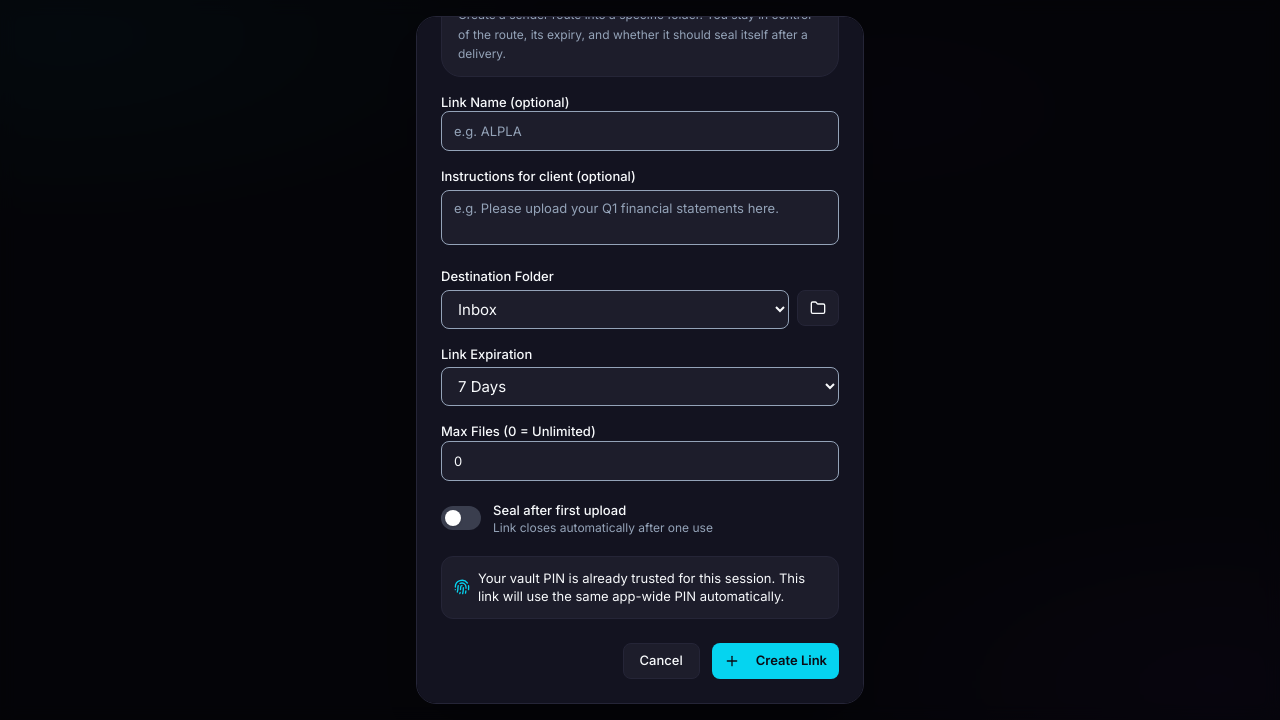
Test: CreateUploadLinkModal › uses the cached pin for secure drop creation without asking again
The image size is (1280, 720).
(page scrolled)
Expected: the field labelled "your 4-digit pin" is not shown
Click the button "Create Link". click: (775, 661)
box: x1=712 y1=643 x2=839 y2=679
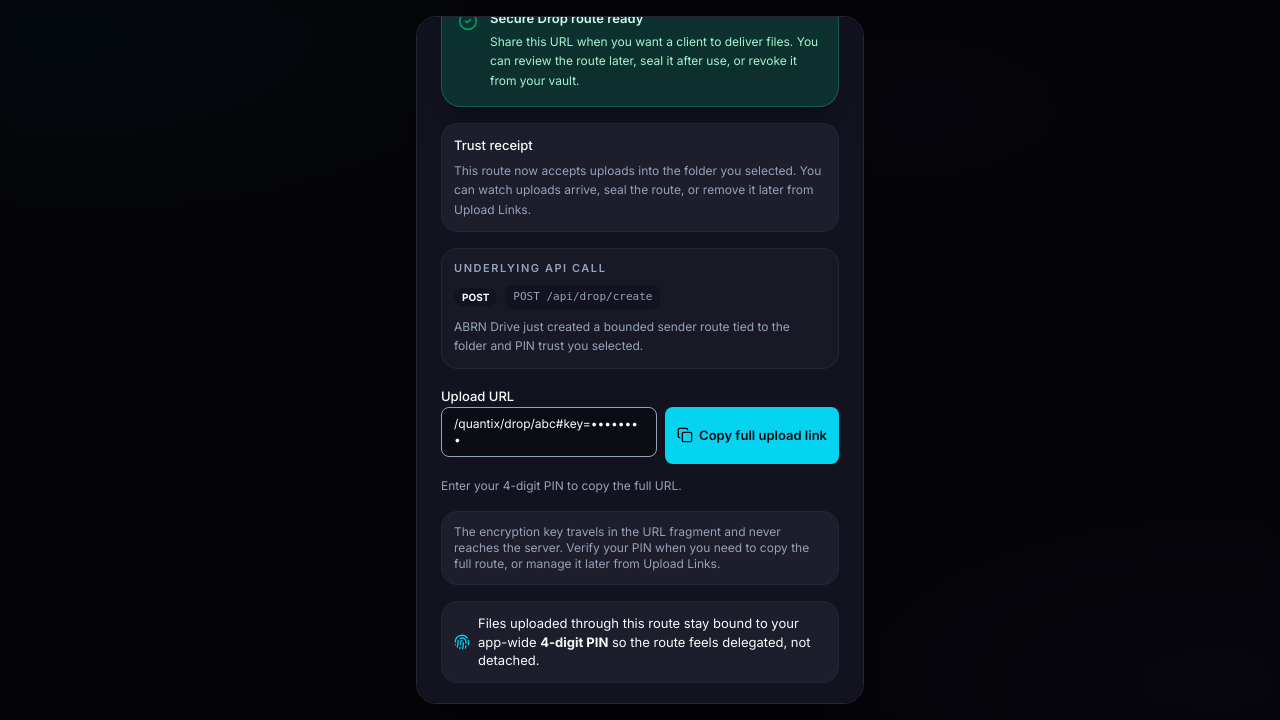
Expected: the text "Underlying API call" is shown, x1=454 y1=261 x2=606 y2=275
Expected: the text "POST /api/drop/create" is shown, x1=505 y1=285 x2=660 y2=308
